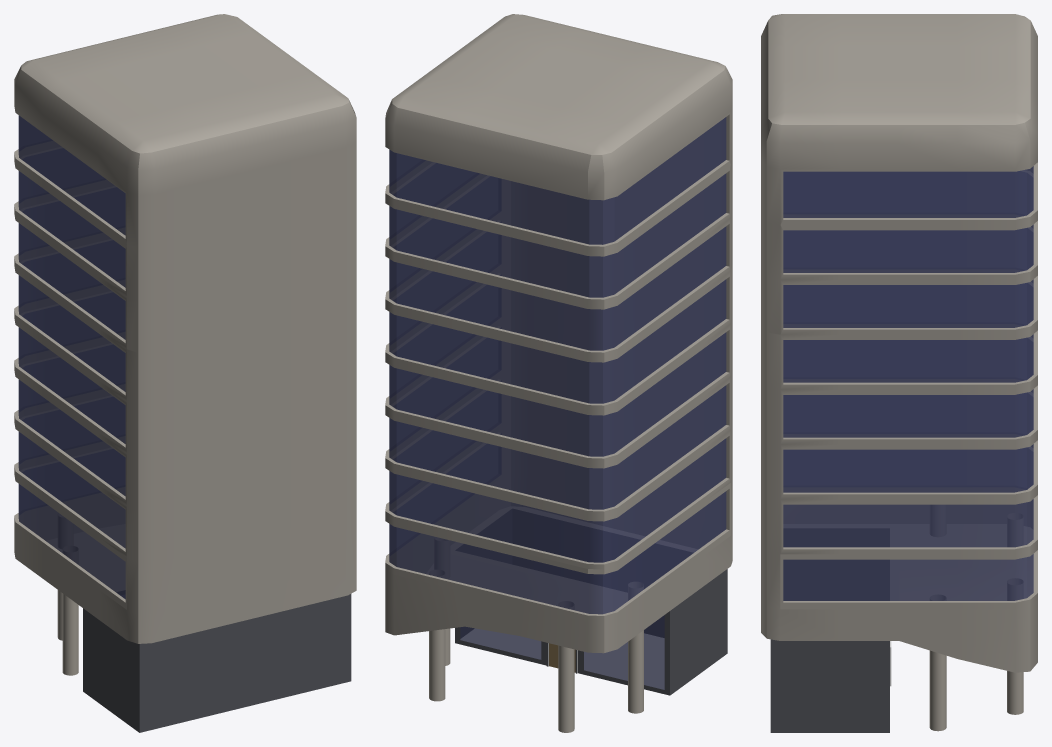
The model's file is MOD_MediumBuilding_C.fbx.
3 views of the same model, side by side, from view 1: azimuth 30°, elevation 25°; view 2: azimuth 150°, elevation 25°; view 3: azimuth 270°, elevation 25° (orthographic). The views are drawn at different scales.
Parts seen in each view (by area): view 1: MOD_MediumBuilding_C; view 2: MOD_MediumBuilding_C; view 3: MOD_MediumBuilding_C.
Part boxes in pixels (x1,y1,x2,y2): MOD_MediumBuilding_C: (14, 14, 356, 732); MOD_MediumBuilding_C: (385, 14, 732, 732); MOD_MediumBuilding_C: (761, 14, 1037, 732).
Size of the model in its own units: 4082 by 10017 by 4082.
